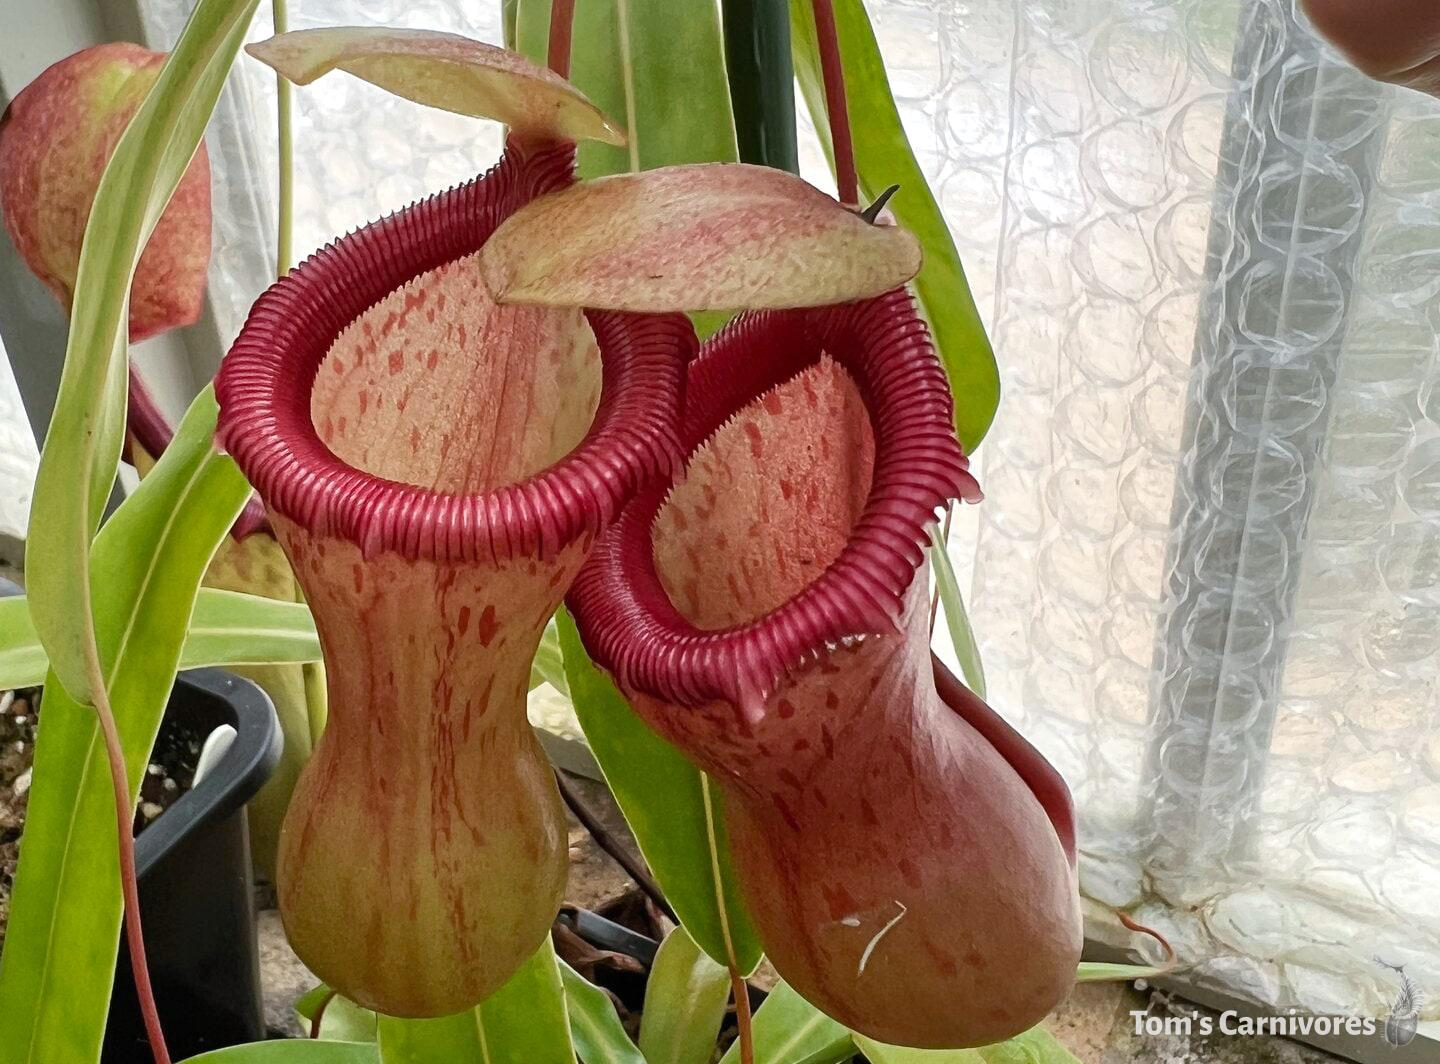ventricosa: (184, 9, 708, 1033)
